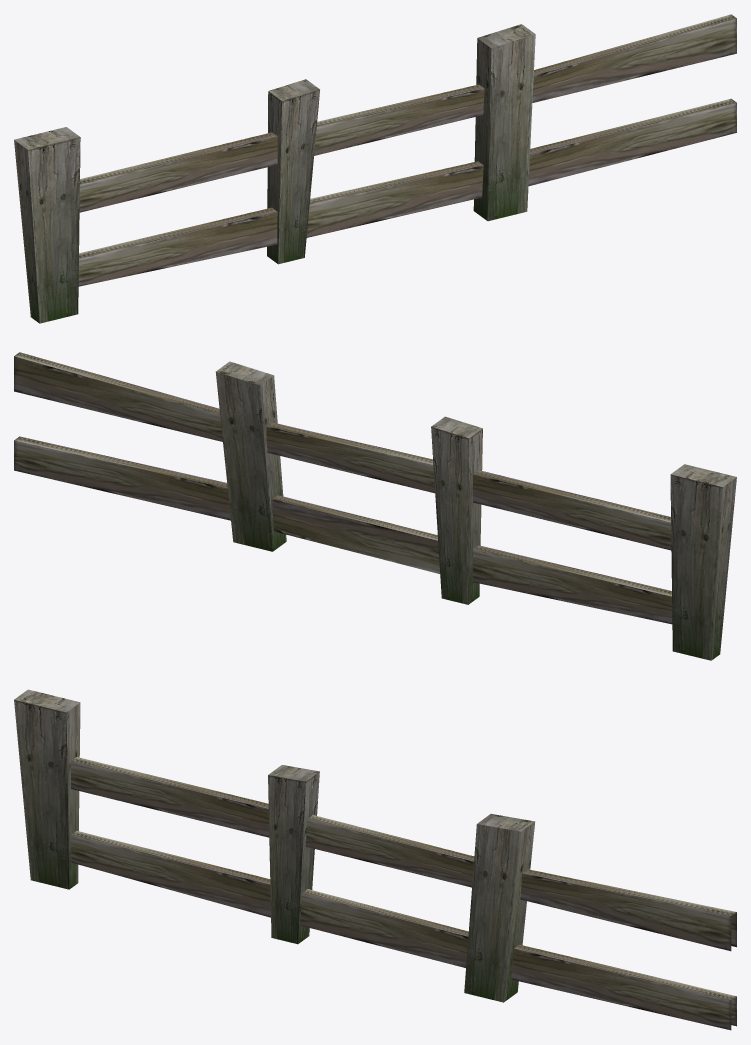
File: woodfence_B.fbx
3 renders of one model, top to bottom at view 1: azimuth 30°, elevation 25°; view 2: azimuth 150°, elevation 25°; view 3: azimuth 330°, elevation 25°, orthographic.
Parts seen in each view (by area): view 1: polySurface4, post1, post3, post2; view 2: polySurface4, post1, post3, post2; view 3: polySurface4, post1, post3, post2.
Boxes of the visible parts, box(x1,y1,x2,y2) form: polySurface4: box(78, 14, 736, 286); post1: box(14, 127, 80, 323); post3: box(473, 24, 535, 221); post2: box(267, 79, 319, 264); polySurface4: box(14, 352, 672, 624); post1: box(670, 464, 736, 660); post3: box(215, 361, 286, 551); post2: box(431, 416, 482, 604); polySurface4: box(71, 757, 736, 1030); post1: box(14, 689, 80, 889); post3: box(464, 814, 535, 1002); post2: box(268, 765, 319, 944).
Size of the model in its own units: 2058 by 494 by 97.45.
1 material, 1 textured.
